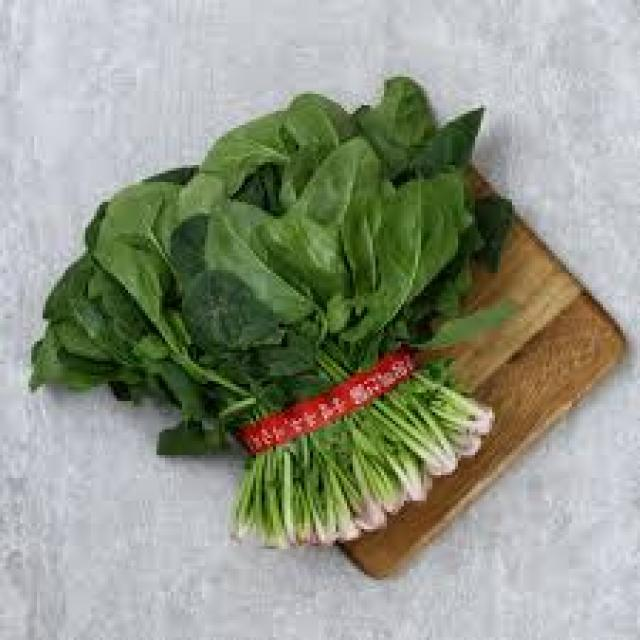spinach: (31, 77, 515, 548)
